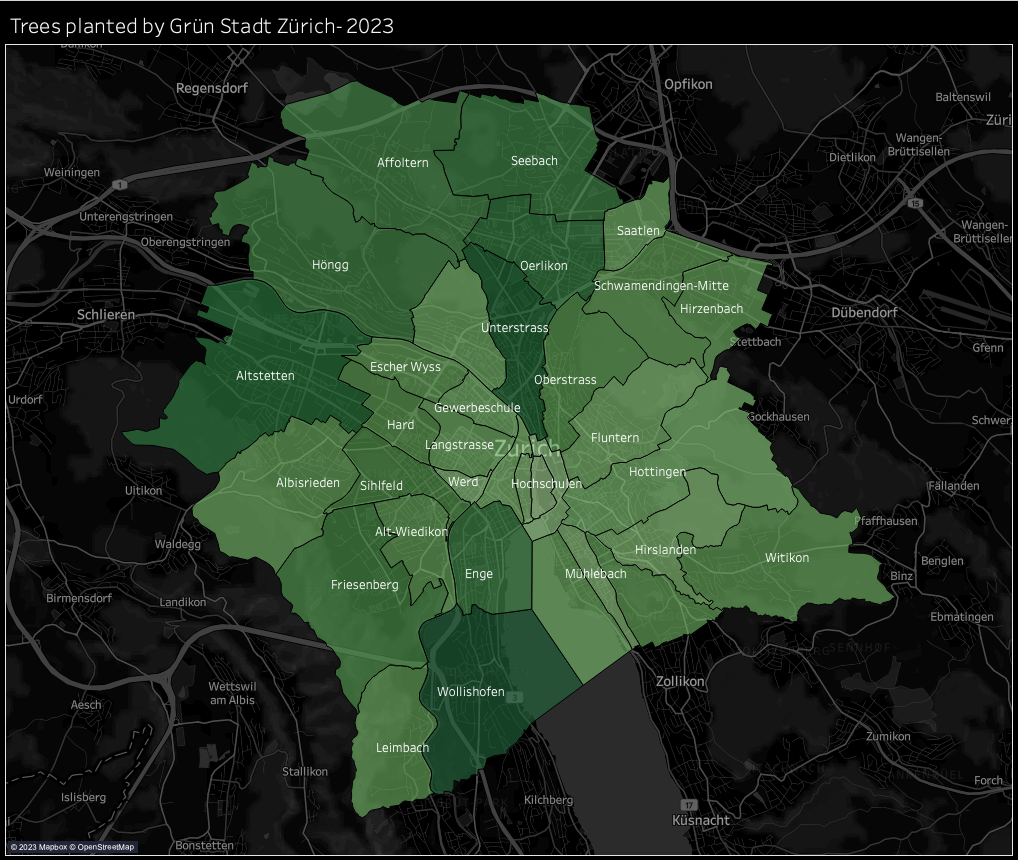

The dashboard page shown, as its layout file describes it:
{"tool":"tableau","page":{"name":"Dashboard 1","canvas":[1000,1000],"units":"permille","ordinal":0},"visuals":[{"type":"worksheet","title":"2022 diff","mark":"Automatic","box":[5.3,8.6,265,547.2]},{"type":"worksheet","title":"temp_nox","mark":"Automatic","rows":["quartier (year_nox_tableau.csv)","mean_temp","mean_nox"],"cols":["year (year_temp_by_station_all_for_tableau.csv)"],"box":[270.3,8.6,619,547.2]},{"type":"filter","title":"2022 diff","param":"[federated.1v8vmkp0yzreej1giook00fxr5ty].[none:date:qk]","box":[889.3,8.6,105.5,73.7]},{"type":"legend","title":"2022 diff","param":"[federated.1v8vmkp0yzreej1giook00fxr5ty].[max:temperature:qk]","box":[889.3,82.2,105.5,69.5]},{"type":"legend","title":"2022 diff","param":"[federated.1v8vmkp0yzreej1giook00fxr5ty].[sum:tree_count:qk]","box":[889.3,151.7,105.5,69.5]},{"type":"legend","title":"2022 diff","param":"[federated.1v8vmkp0yzreej1giook00fxr5ty].[sum:mean_nox:qk]","box":[889.3,221.3,105.5,69.5]},{"type":"filter","title":"temp_nox","param":"[federated.1v8vmkp0yzreej1giook00fxr5ty].[none:year (year_temp_by_station_all_fo","box":[889.3,290.8,105.5,73.7]},{"type":"legend","title":"temp_nox","param":"[federated.1v8vmkp0yzreej1giook00fxr5ty].[:Measure Names]","box":[889.3,364.4,105.5,70.6]},{"type":"legend","title":"Trees (2)","param":"[federated.1v8vmkp0yzreej1giook00fxr5ty].[none:cum_trees2:qk]","box":[889.3,435,105.5,23.5]},{"type":"legend","title":"Trees (2)","param":"[federated.1v8vmkp0yzreej1giook00fxr5ty].[none:mean_temp:qk]","box":[889.3,458.6,105.5,23.5]},{"type":"currpage","title":"Trees (2)","box":[889.3,482.1,105.5,73.7]},{"type":"worksheet","title":"Trees (2)","mark":"Automatic","box":[5.3,555.8,989.5,435.7]}]}

Visuals, with their boxes on the dashboard's canvas, which has no fixed pixel size, in thousandths of its width and height (x1, y1, x2, y2). These are canvas units, not pixel positions in the 1018x860 screenshot, which may show the page scaled, cropped or inside an application window:
"2022 diff" worksheet: pyautogui.locateOnScreen(5, 9, 270, 556)
"temp_nox" worksheet: pyautogui.locateOnScreen(270, 9, 889, 556)
"2022 diff" filter: pyautogui.locateOnScreen(889, 9, 995, 82)
"2022 diff" legend: pyautogui.locateOnScreen(889, 82, 995, 152)
"2022 diff" legend: pyautogui.locateOnScreen(889, 152, 995, 221)
"2022 diff" legend: pyautogui.locateOnScreen(889, 221, 995, 291)
"temp_nox" filter: pyautogui.locateOnScreen(889, 291, 995, 364)
"temp_nox" legend: pyautogui.locateOnScreen(889, 364, 995, 435)
"Trees (2)" legend: pyautogui.locateOnScreen(889, 435, 995, 458)
"Trees (2)" legend: pyautogui.locateOnScreen(889, 459, 995, 482)
"Trees (2)" currpage: pyautogui.locateOnScreen(889, 482, 995, 556)
"Trees (2)" worksheet: pyautogui.locateOnScreen(5, 556, 995, 992)
